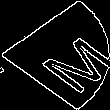M_NW: (7, 20, 103, 90)
